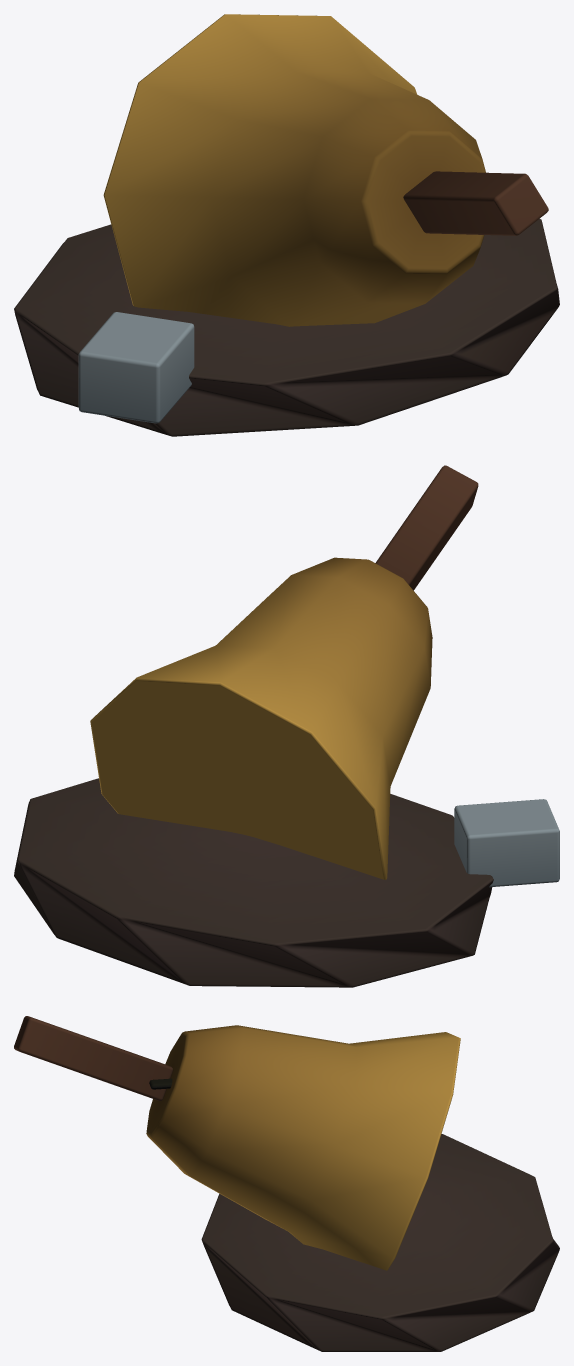
File: field_bell.glb
The picture shows the model from 3 angles, top to bottom: view 1: azimuth 30°, elevation 25°; view 2: azimuth 150°, elevation 25°; view 3: azimuth 270°, elevation 25°; orthographic projection. The views are drawn at different scales.
Parts seen in each view (by area): view 1: field_bell; view 2: field_bell; view 3: field_bell.
Part boxes in pixels (x1,y1,x2,y2): field_bell: (14, 14, 559, 436); field_bell: (14, 465, 559, 987); field_bell: (14, 1016, 559, 1351).
Bounding box in the file's own units: 0.9137 × 0.5949 × 1.05.
